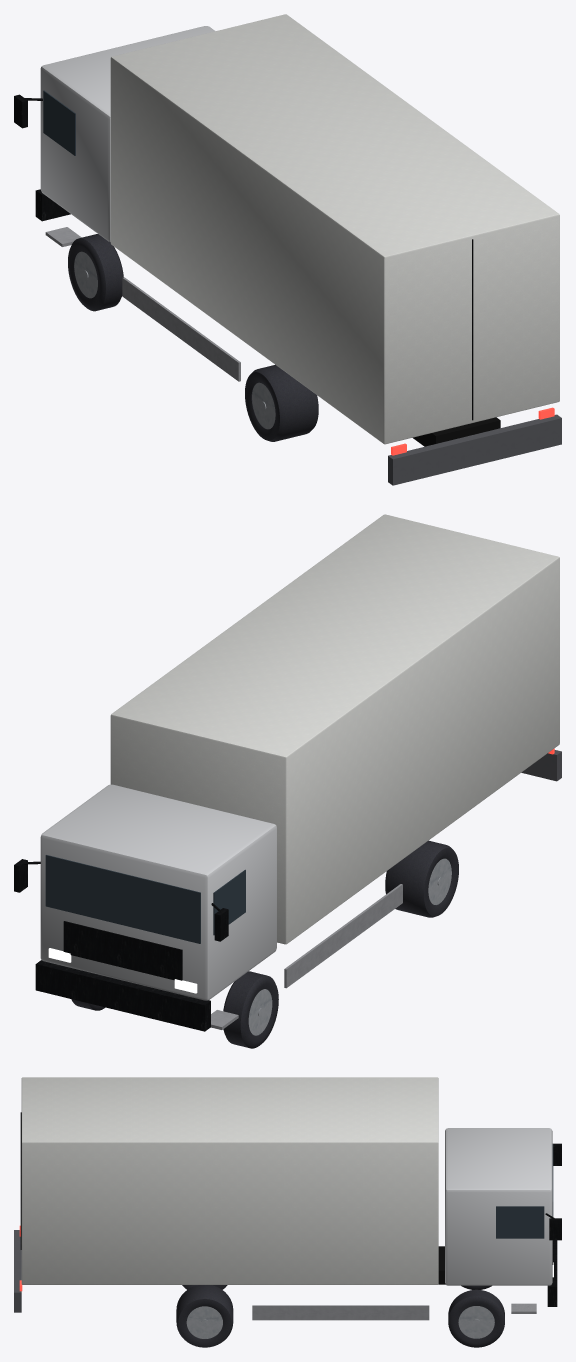
File: truck_box_7t5_silver.gltf
The picture shows the model from 3 angles, top to bottom: view 1: azimuth 30°, elevation 25°; view 2: azimuth 150°, elevation 25°; view 3: azimuth 270°, elevation 25°; orthographic projection. The views are drawn at different scales.
Parts seen in each view (by area): view 1: truck_box_7t5_silver; view 2: truck_box_7t5_silver; view 3: truck_box_7t5_silver.
Part boxes in pixels (left/top/right/bottom): truck_box_7t5_silver: left=14, top=14, right=561, bottom=485; truck_box_7t5_silver: left=14, top=514, right=561, bottom=1048; truck_box_7t5_silver: left=14, top=1077, right=561, bottom=1347.
Bounding box in the file's own units: 2.87 × 3.6 × 8.67.
13 materials, 8 textured.
